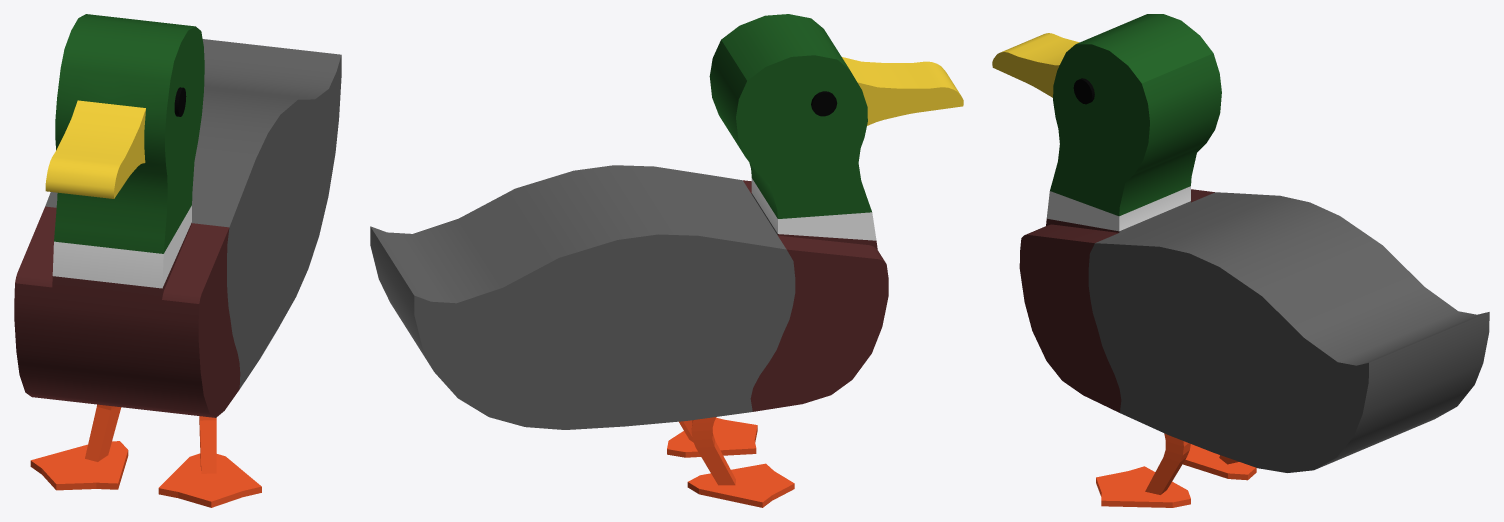
Rendered from duck.fbx.
The picture shows the model from 3 angles, left to right: view 1: azimuth 30°, elevation 25°; view 2: azimuth 150°, elevation 25°; view 3: azimuth 270°, elevation 25°; orthographic projection. The views are drawn at different scales.
Parts seen in each view (by area): view 1: Cube.118; view 2: Cube.118; view 3: Cube.118.
Boxes of the visible parts, left/top/right/bottom form: Cube.118: left=14, top=14, right=341, bottom=507; Cube.118: left=370, top=14, right=963, bottom=507; Cube.118: left=992, top=14, right=1489, bottom=507.
Bounding box in the file's own units: 196 × 185 × 196.
Materials: 1 (1 with a texture image).
